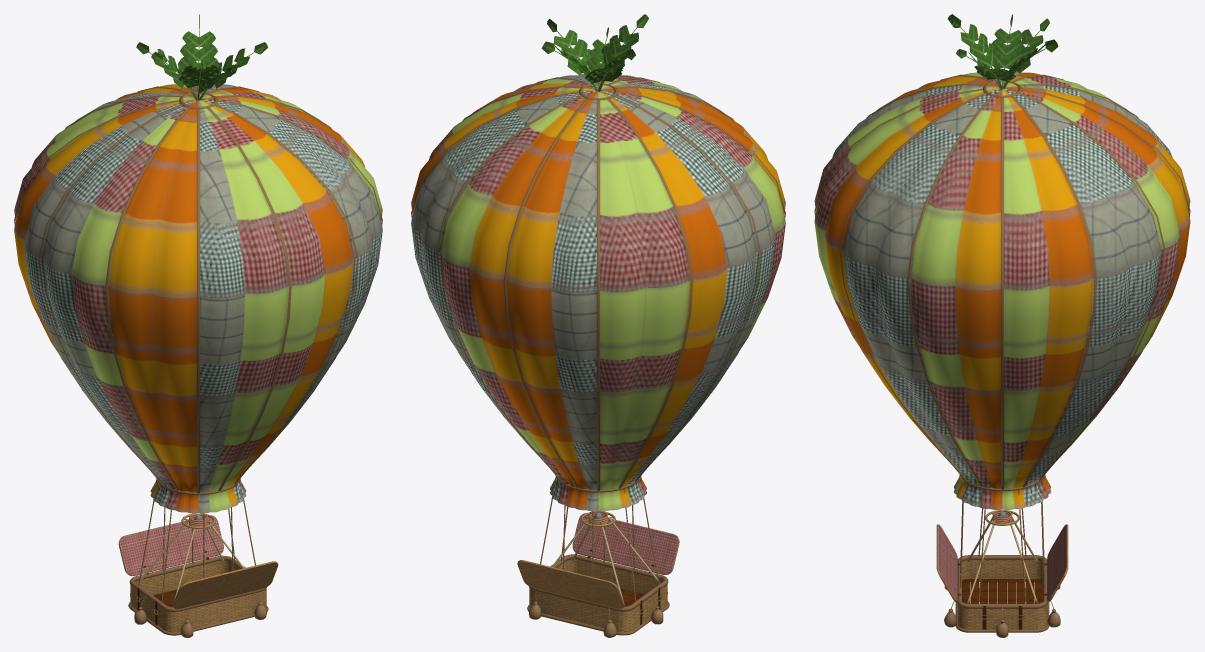
The model's file is dropship_balloon.glb.
The picture shows the model from 3 angles, left to right: view 1: azimuth 30°, elevation 25°; view 2: azimuth 150°, elevation 25°; view 3: azimuth 270°, elevation 25°; orthographic projection.
Visible parts, largest first — view 1: dropship_balloon; view 2: dropship_balloon; view 3: dropship_balloon.
Boxes of the visible parts, bbox=[...] form: dropship_balloon: bbox=[14, 14, 382, 637]; dropship_balloon: bbox=[411, 14, 785, 637]; dropship_balloon: bbox=[814, 14, 1190, 637].
Bounding box in the file's own units: 12.61 × 21.6 × 12.61.
1 material, 1 textured.
